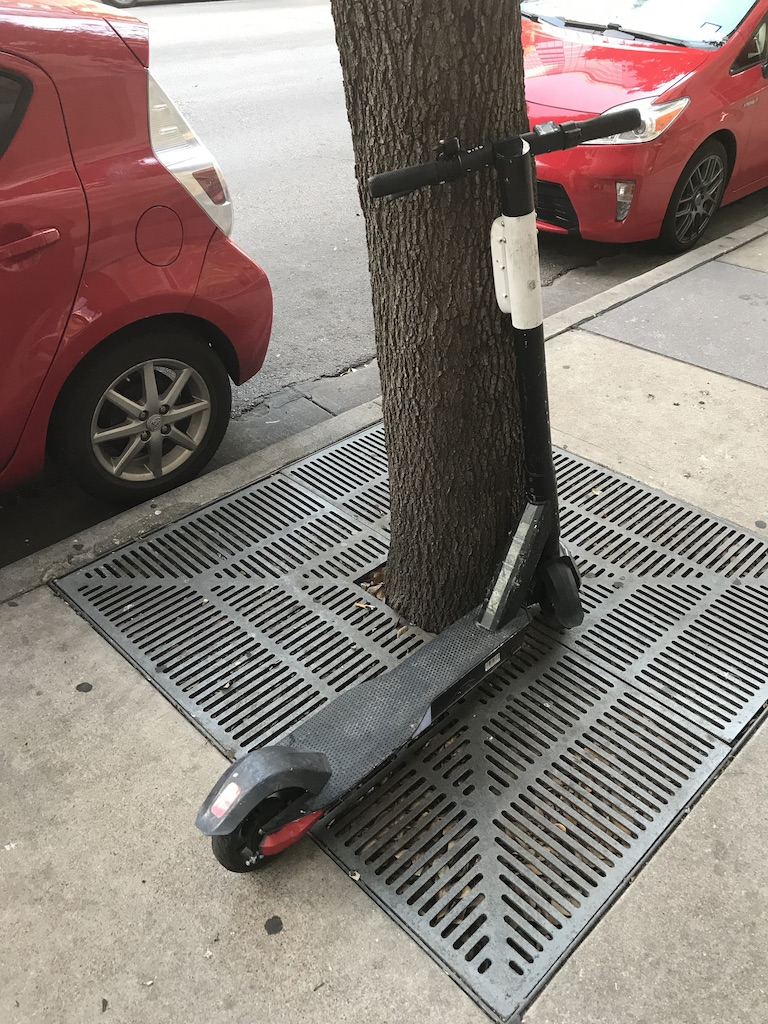scooter: (191, 107, 643, 875)
